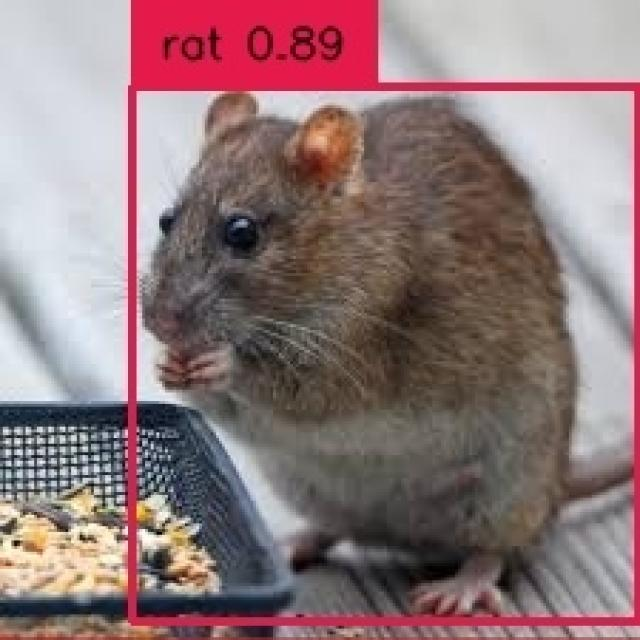rat: (128, 82, 634, 618)
